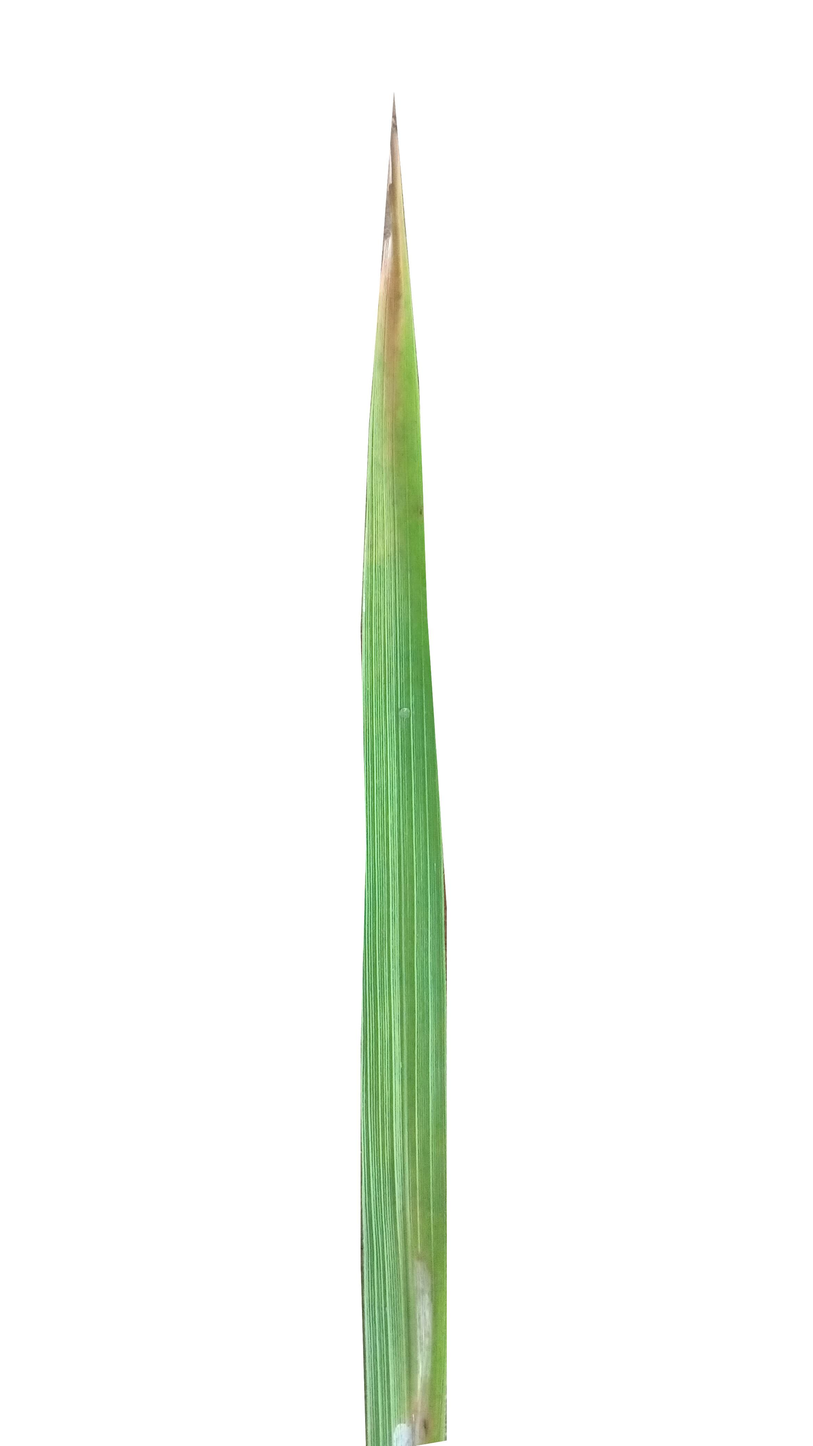Tungro: (366, 101, 433, 698)
